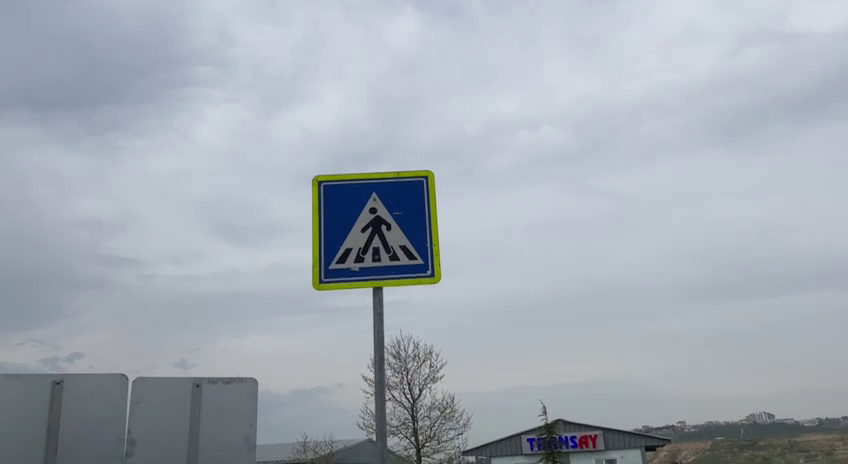pedestrianCrossing: (308, 168, 443, 293)
